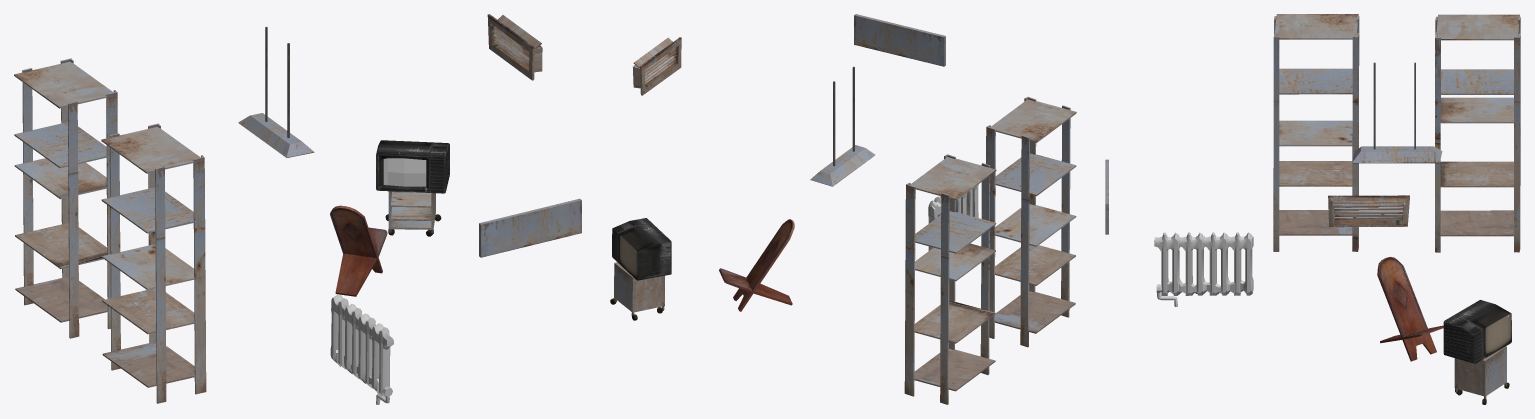
Rendered from SM_Scene_A_furniture00.fbx.
3 renders of one model, left to right at view 1: azimuth 30°, elevation 25°; view 2: azimuth 150°, elevation 25°; view 3: azimuth 270°, elevation 25°, orthographic. The views are drawn at different scales.
Parts seen in each view (by area): view 1: SM_Scene_A_furniture00; view 2: SM_Scene_A_furniture00; view 3: SM_Scene_A_furniture00.
Part boxes in pixels (x1,y1,x2,y2): SM_Scene_A_furniture00: (14, 14, 581, 404); SM_Scene_A_furniture00: (610, 14, 1076, 404); SM_Scene_A_furniture00: (1105, 14, 1520, 404).
Bounding box in the file's own units: 770 × 476 × 711.
